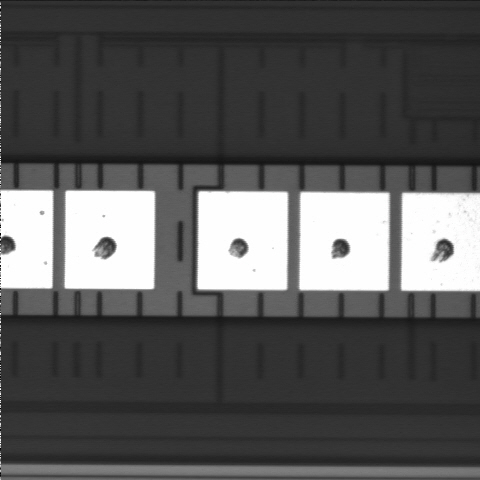pad: (198, 191, 288, 290), (299, 192, 389, 291), (65, 191, 155, 289)
